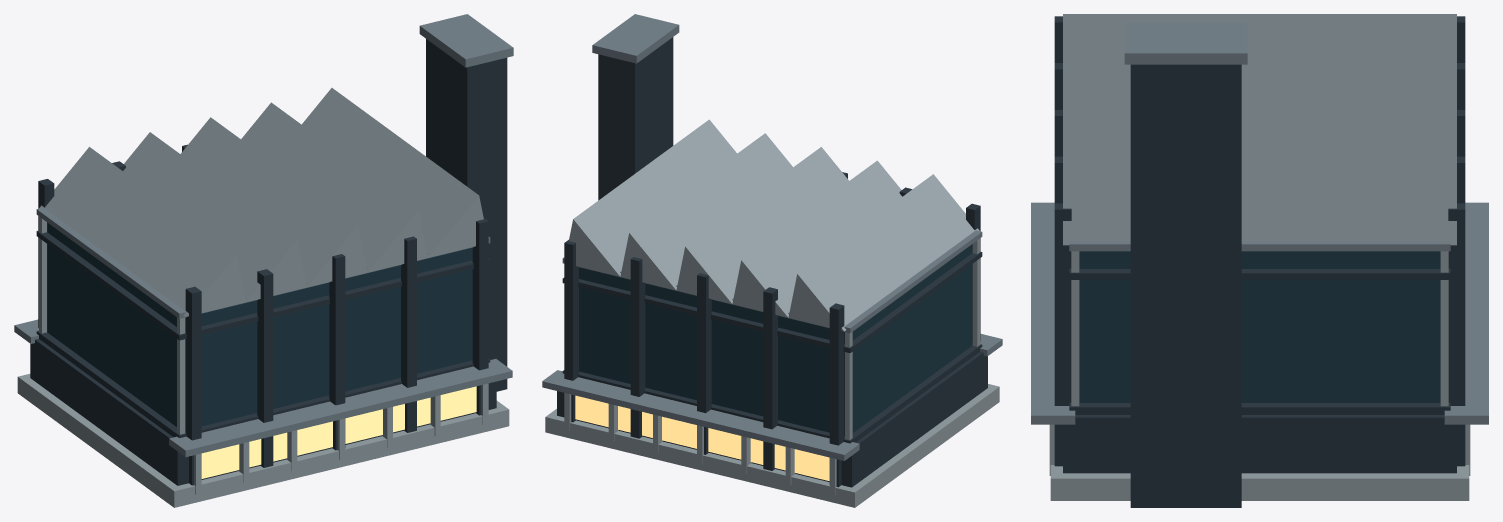
The model's file is vrx_city_works_a_LOD1.fbx.
3 renders of one model, left to right at view 1: azimuth 30°, elevation 25°; view 2: azimuth 150°, elevation 25°; view 3: azimuth 270°, elevation 25°, orthographic. The views are drawn at different scales.
Visible parts, largest first — view 1: vrx_city_works_a_LOD1; view 2: vrx_city_works_a_LOD1; view 3: vrx_city_works_a_LOD1.
Part boxes in pixels (bbox=[...]): vrx_city_works_a_LOD1: bbox=[14, 14, 513, 507]; vrx_city_works_a_LOD1: bbox=[542, 14, 1002, 507]; vrx_city_works_a_LOD1: bbox=[1031, 14, 1488, 507].
Bounding box in the file's own units: 46 × 42 × 37.2.
